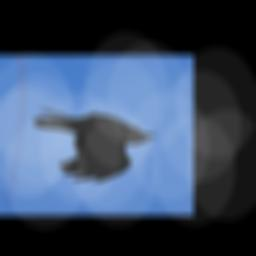Crow: (32, 107, 156, 182)
